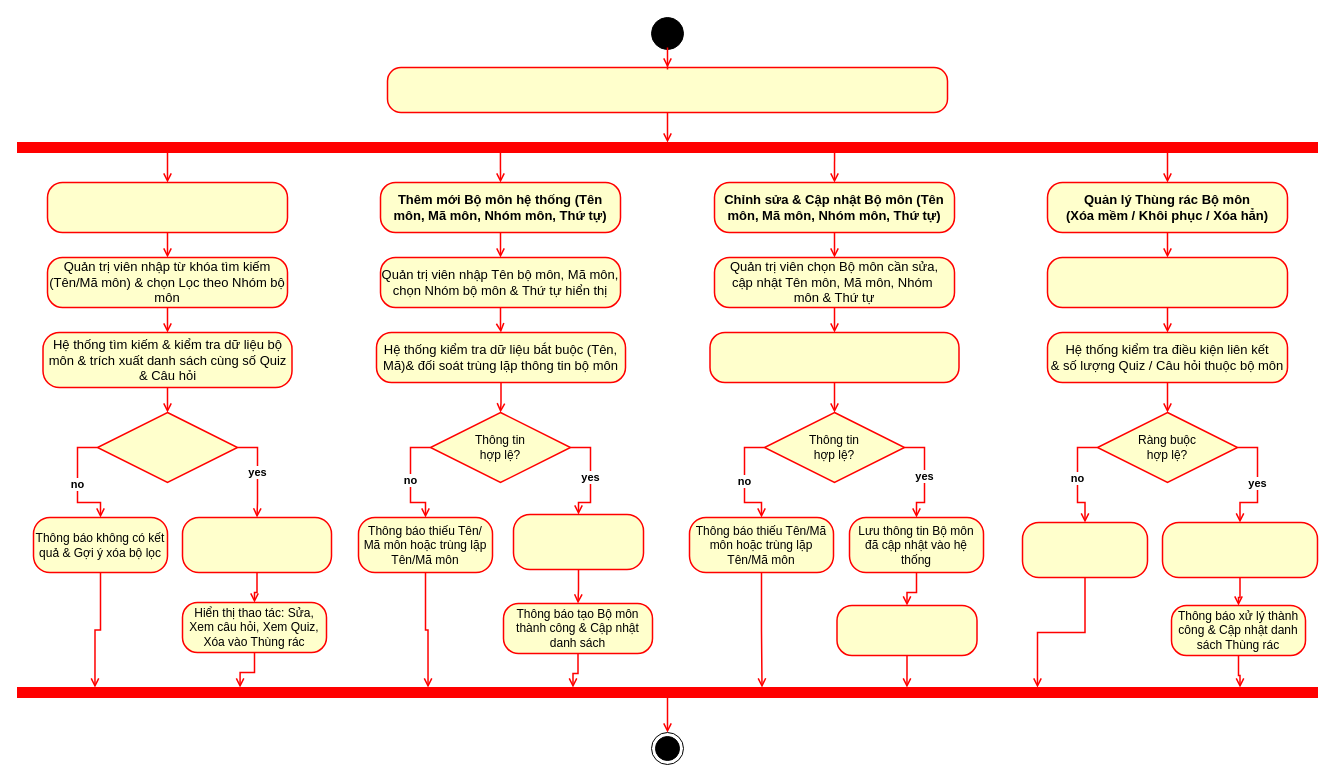
This 1336x782 diagram has some shape labels left out. The centre of each missing label's shape, as x and y in pixels:
"Chuyển vào Thùng rác / Khôi phục bộ môn hoặc Xóa vĩnh viễn khỏi hệ thống" goes at (x=1239, y=549).
"Hiển thị danh sách bộ môn & Phân nhóm danh mục chuẩn hóa" goes at (x=256, y=544).
"Hệ thống kiểm tra dữ liệu cập nhật & đối soát trùng lặp với bộ môn khác" goes at (x=834, y=357).
"Lưu thông tin Bộ môn mới vào hệ thống" goes at (x=578, y=541).
"Quản trị viên (Admin) chọn chức năng Quản lý Bộ môn" goes at (x=667, y=89).
"Quản trị viên chọn Chuyển Thùng rác, Khôi phục hoặc Xóa vĩnh viễn bộ môn" goes at (x=1167, y=282).
"Thông báo cập nhật thành công & Làm mới danh sách hiển thị" goes at (x=906, y=630).
"Thông báo không thể xóa vĩnh viễn do đang chứa Quiz/Câu hỏi" goes at (x=1084, y=549).
"Tìm thấy bộ môn?" goes at (x=167, y=447).
"Xem danh sách & Lọc Bộ môn theo Nhóm bộ môn & Từ khóa" goes at (x=167, y=207).
